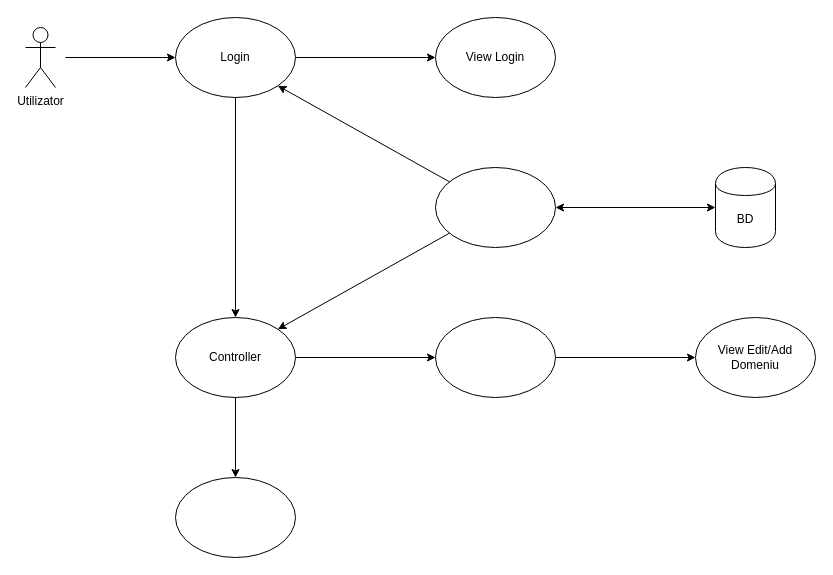
Image size: 833x575. Some labels were removed from this diagram. Each missing label, with the centre of its shape:
Generare cod Service Worker: the point at 495,357
Mod: the point at 495,207
View Domenii: the point at 235,517
